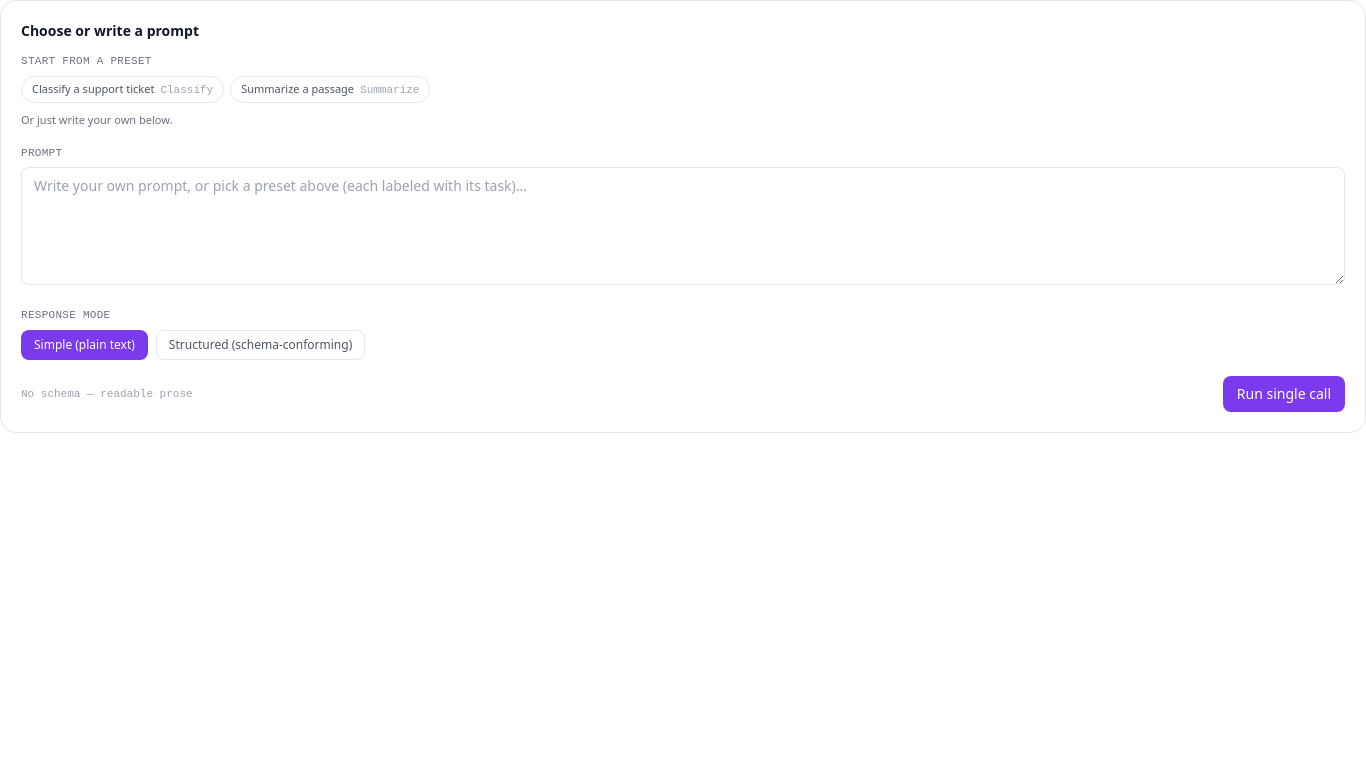
SingleCallApp › sends exactly one request per submission
Type "What is a hash table?" into the text box labelled "Prompt".
click(683, 226); type("What is a hash table?")  # box [21,167,1345,285]
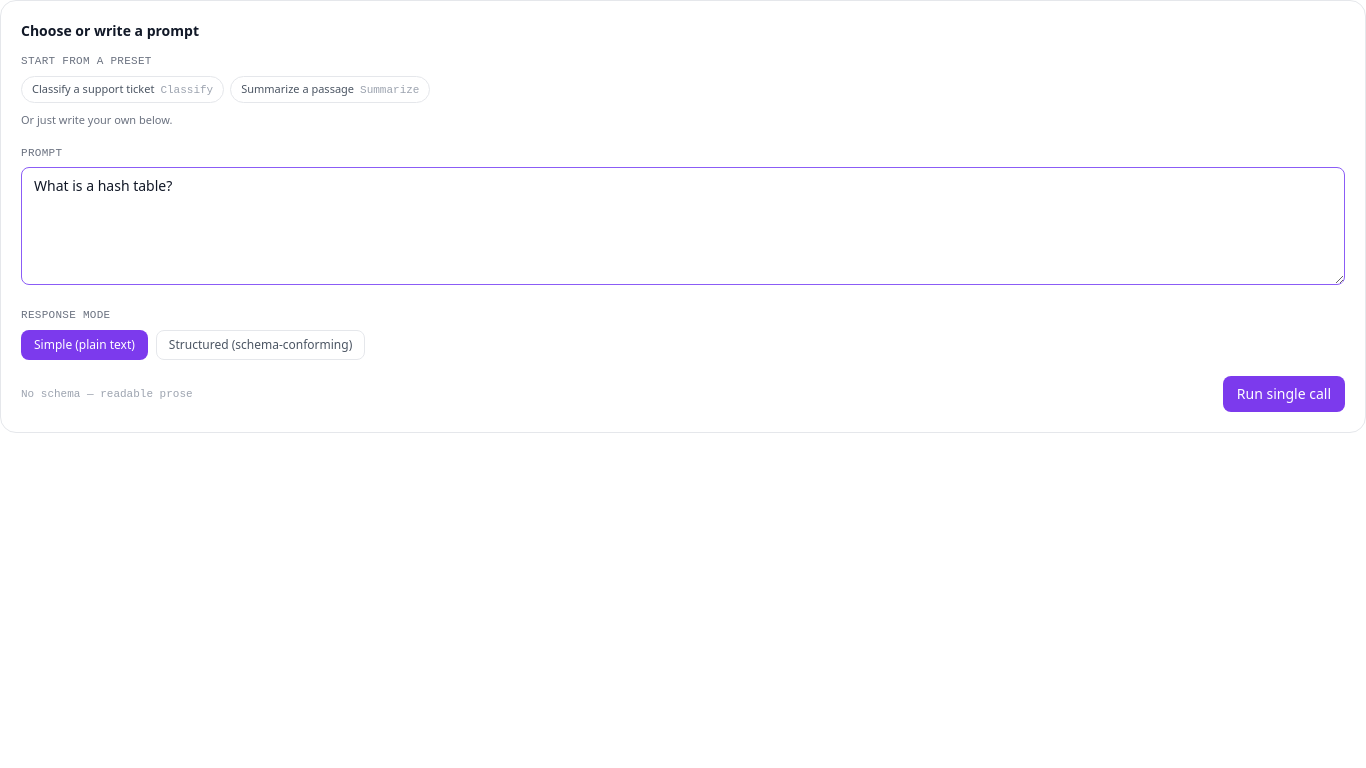
Click the button "Run single call".
click(1284, 394)  # box [1223,376,1345,412]
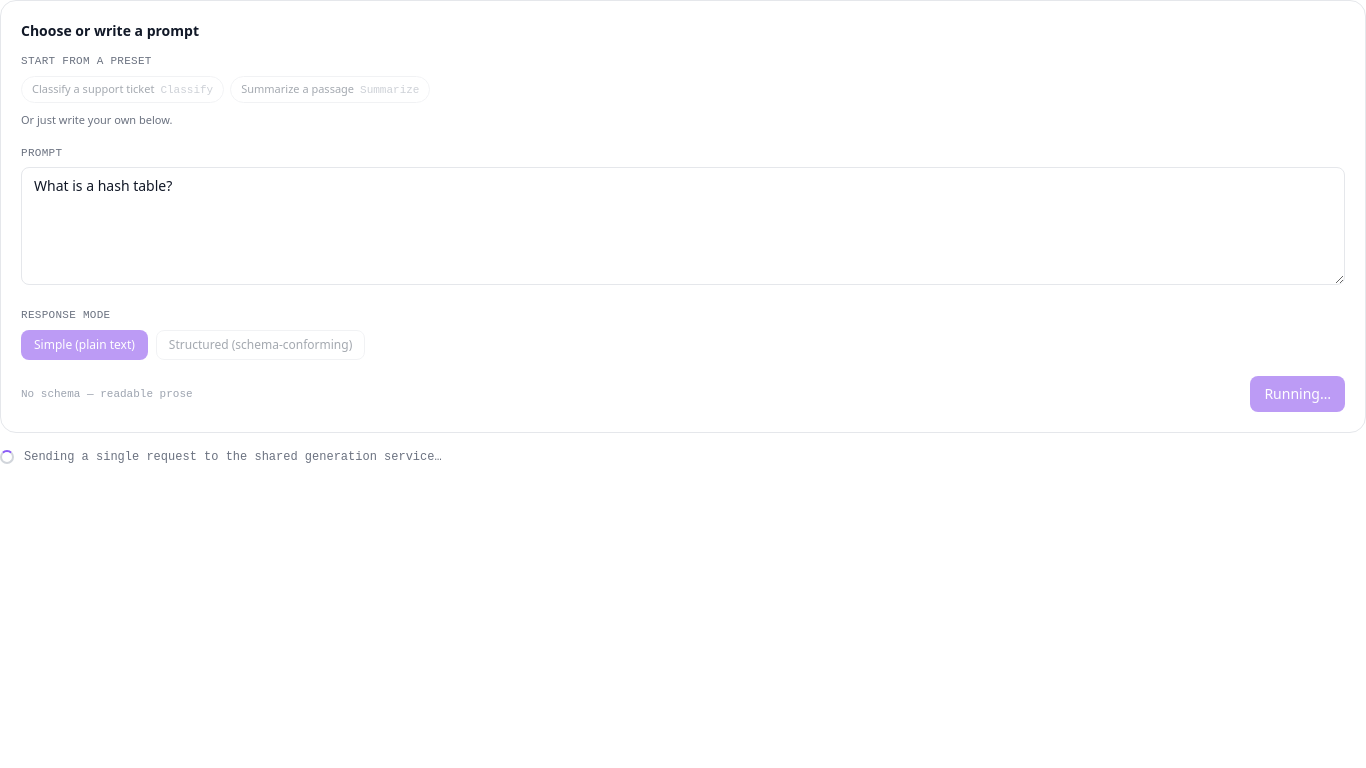
Expected: the button named "run single call" is disabled
Click the button named "run single call".
click(1298, 394)  # box [1250,376,1345,412]
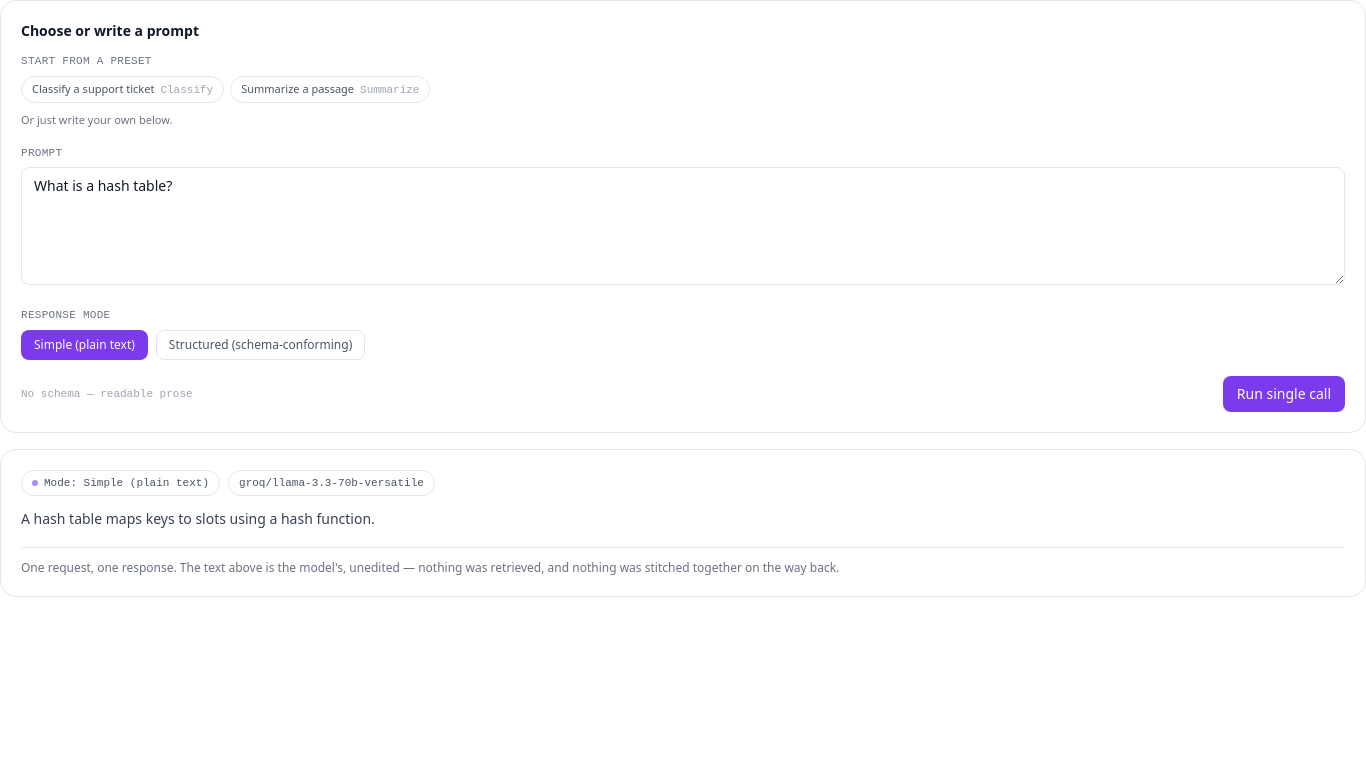
Expected: the text "A hash table maps keys to slots using a hash function." is shown, [21,509,375,528]
